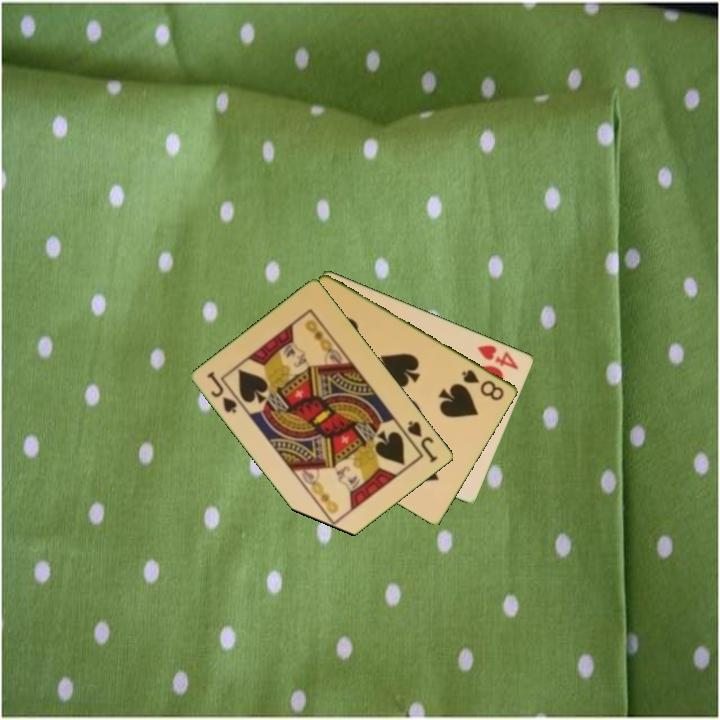4h: (473, 341, 522, 372)
8s: (458, 366, 507, 404)
Js: (404, 417, 441, 466), (204, 367, 241, 416)
